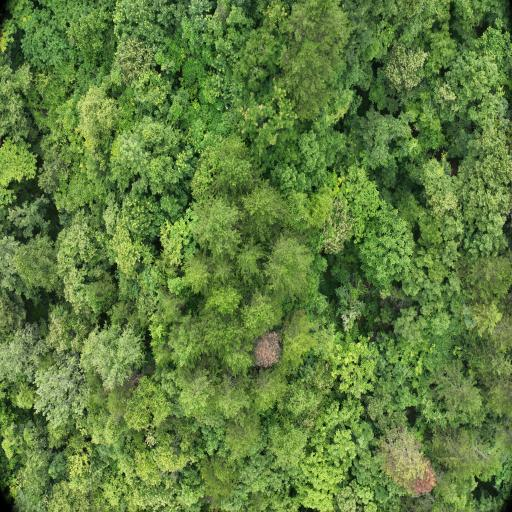sick-tree: (256, 340, 280, 362), (408, 478, 430, 491)
